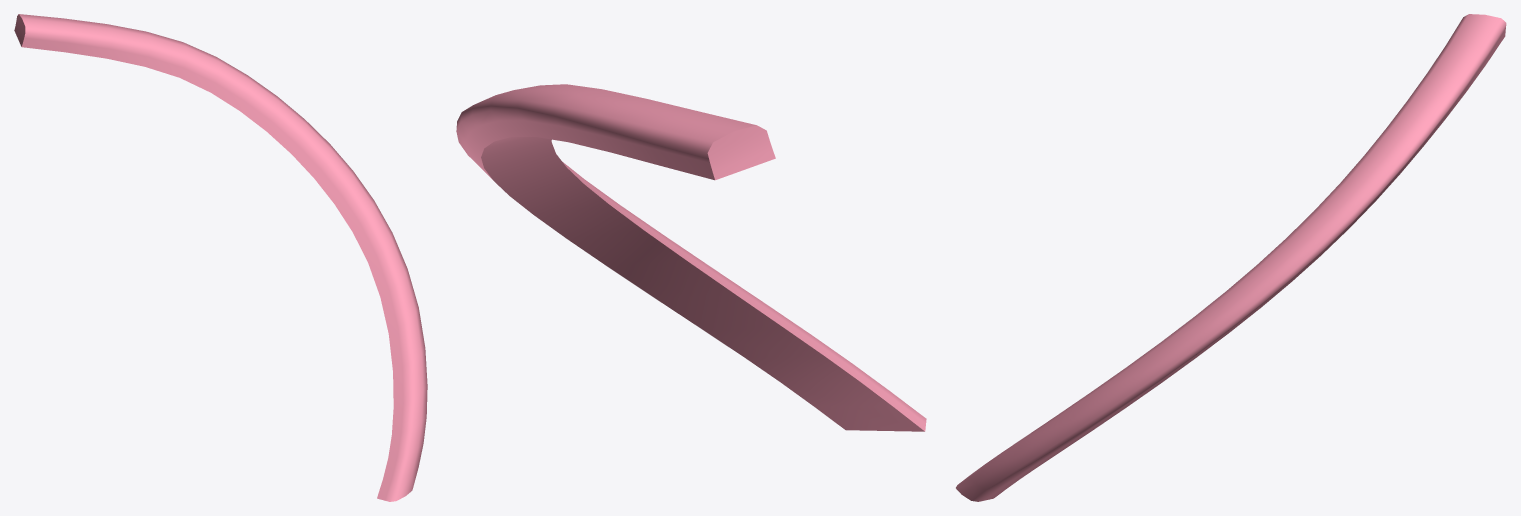
The picture shows the model from 3 angles, left to right: view 1: azimuth 30°, elevation 25°; view 2: azimuth 150°, elevation 25°; view 3: azimuth 270°, elevation 25°; orthographic projection. The views are drawn at different scales.
Parts seen in each view (by area): view 1: Plane349; view 2: Plane349; view 3: Plane349.
Boxes of the visible parts, box(x1,y1,x2,y2) form: Plane349: box(14, 14, 427, 501); Plane349: box(456, 84, 926, 431); Plane349: box(956, 14, 1506, 501).
Bounding box in the file's own units: 0.17 × 0.2236 × 0.2828.
